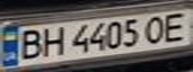0: (106, 18, 127, 51)
4: (66, 21, 90, 54), (87, 20, 109, 52)
5: (121, 16, 145, 48)
B: (12, 27, 45, 61)
E: (157, 10, 193, 43)
H: (36, 25, 66, 57)
O: (139, 12, 172, 45)
